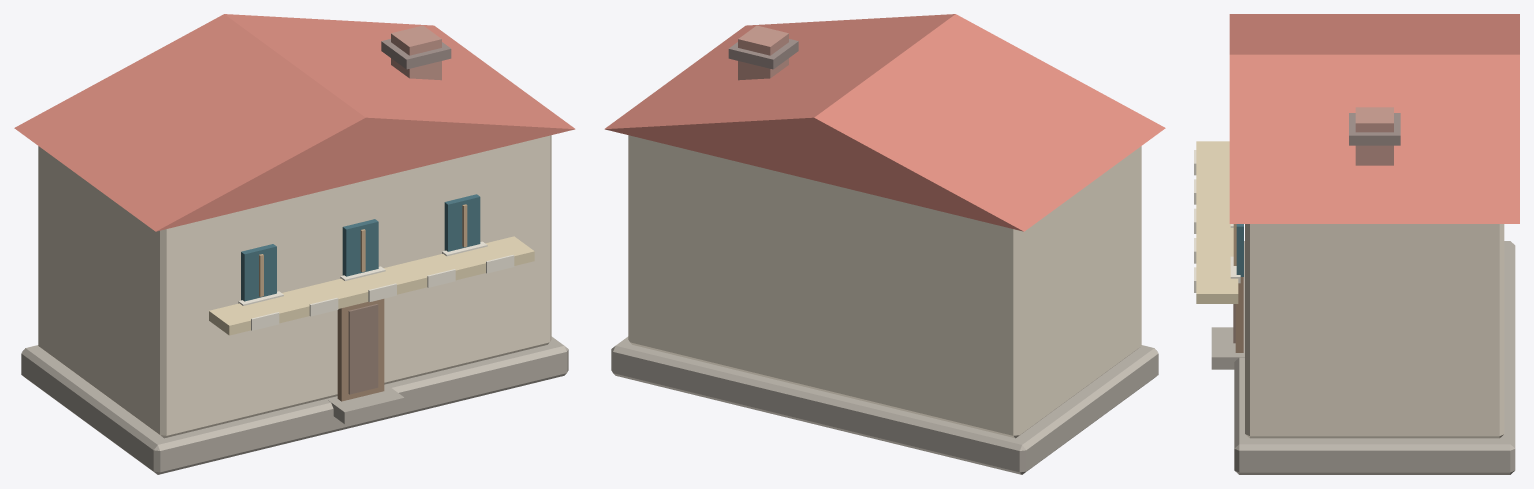
Rendered from tin_cup_diner_near-DG7wlZkS.glb.
3 views of the same model, side by side, from view 1: azimuth 30°, elevation 25°; view 2: azimuth 150°, elevation 25°; view 3: azimuth 270°, elevation 25° (orthographic). The views are drawn at different scales.
Visible parts, largest first — view 1: tin_cup_diner_near; view 2: tin_cup_diner_near; view 3: tin_cup_diner_near.
Part boxes in pixels (x1,y1,x2,y2): tin_cup_diner_near: (14,14,575,474); tin_cup_diner_near: (604,14,1165,474); tin_cup_diner_near: (1194,14,1519,474).
Size of the model in its own units: 8.05 by 5.7 by 5.28.
